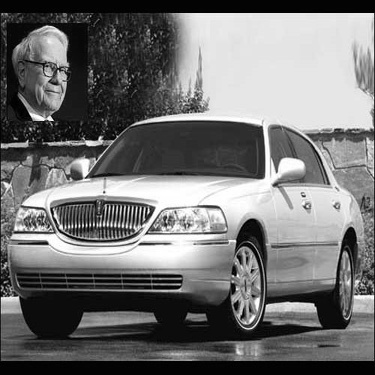car: (6, 110, 369, 344)
